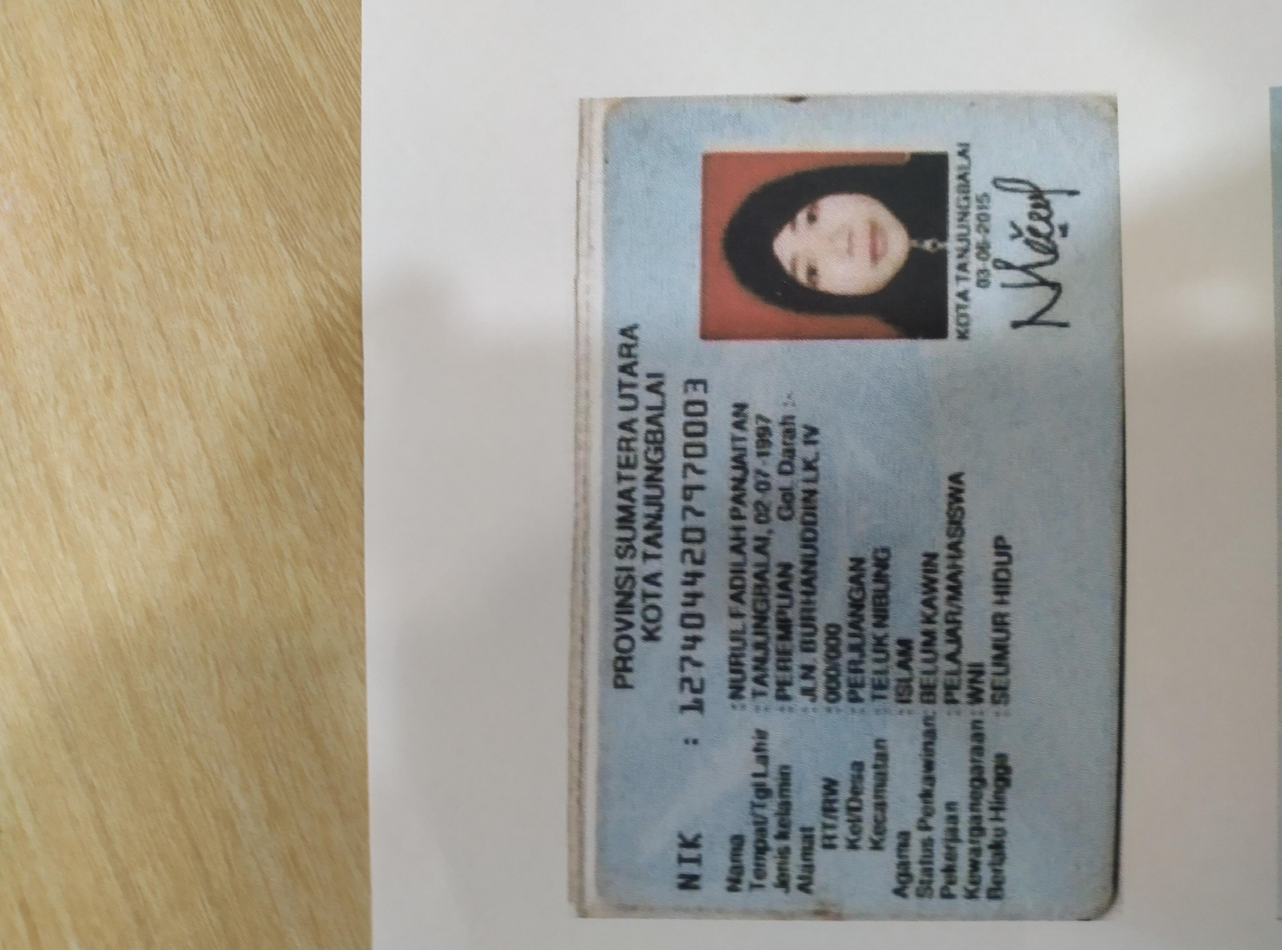ID-card: (53, 421, 1131, 824)
